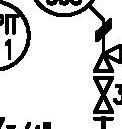psv: (93, 18, 121, 74)
